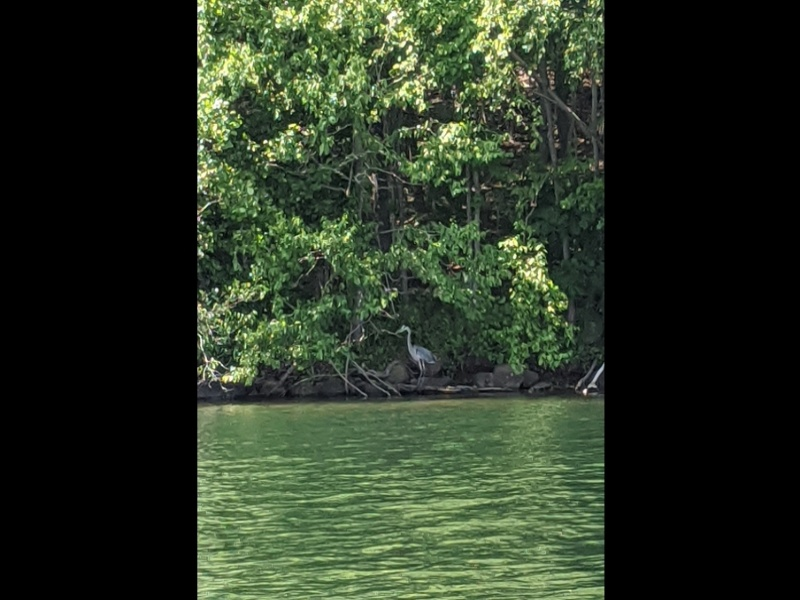heron: (395, 323, 440, 380)
